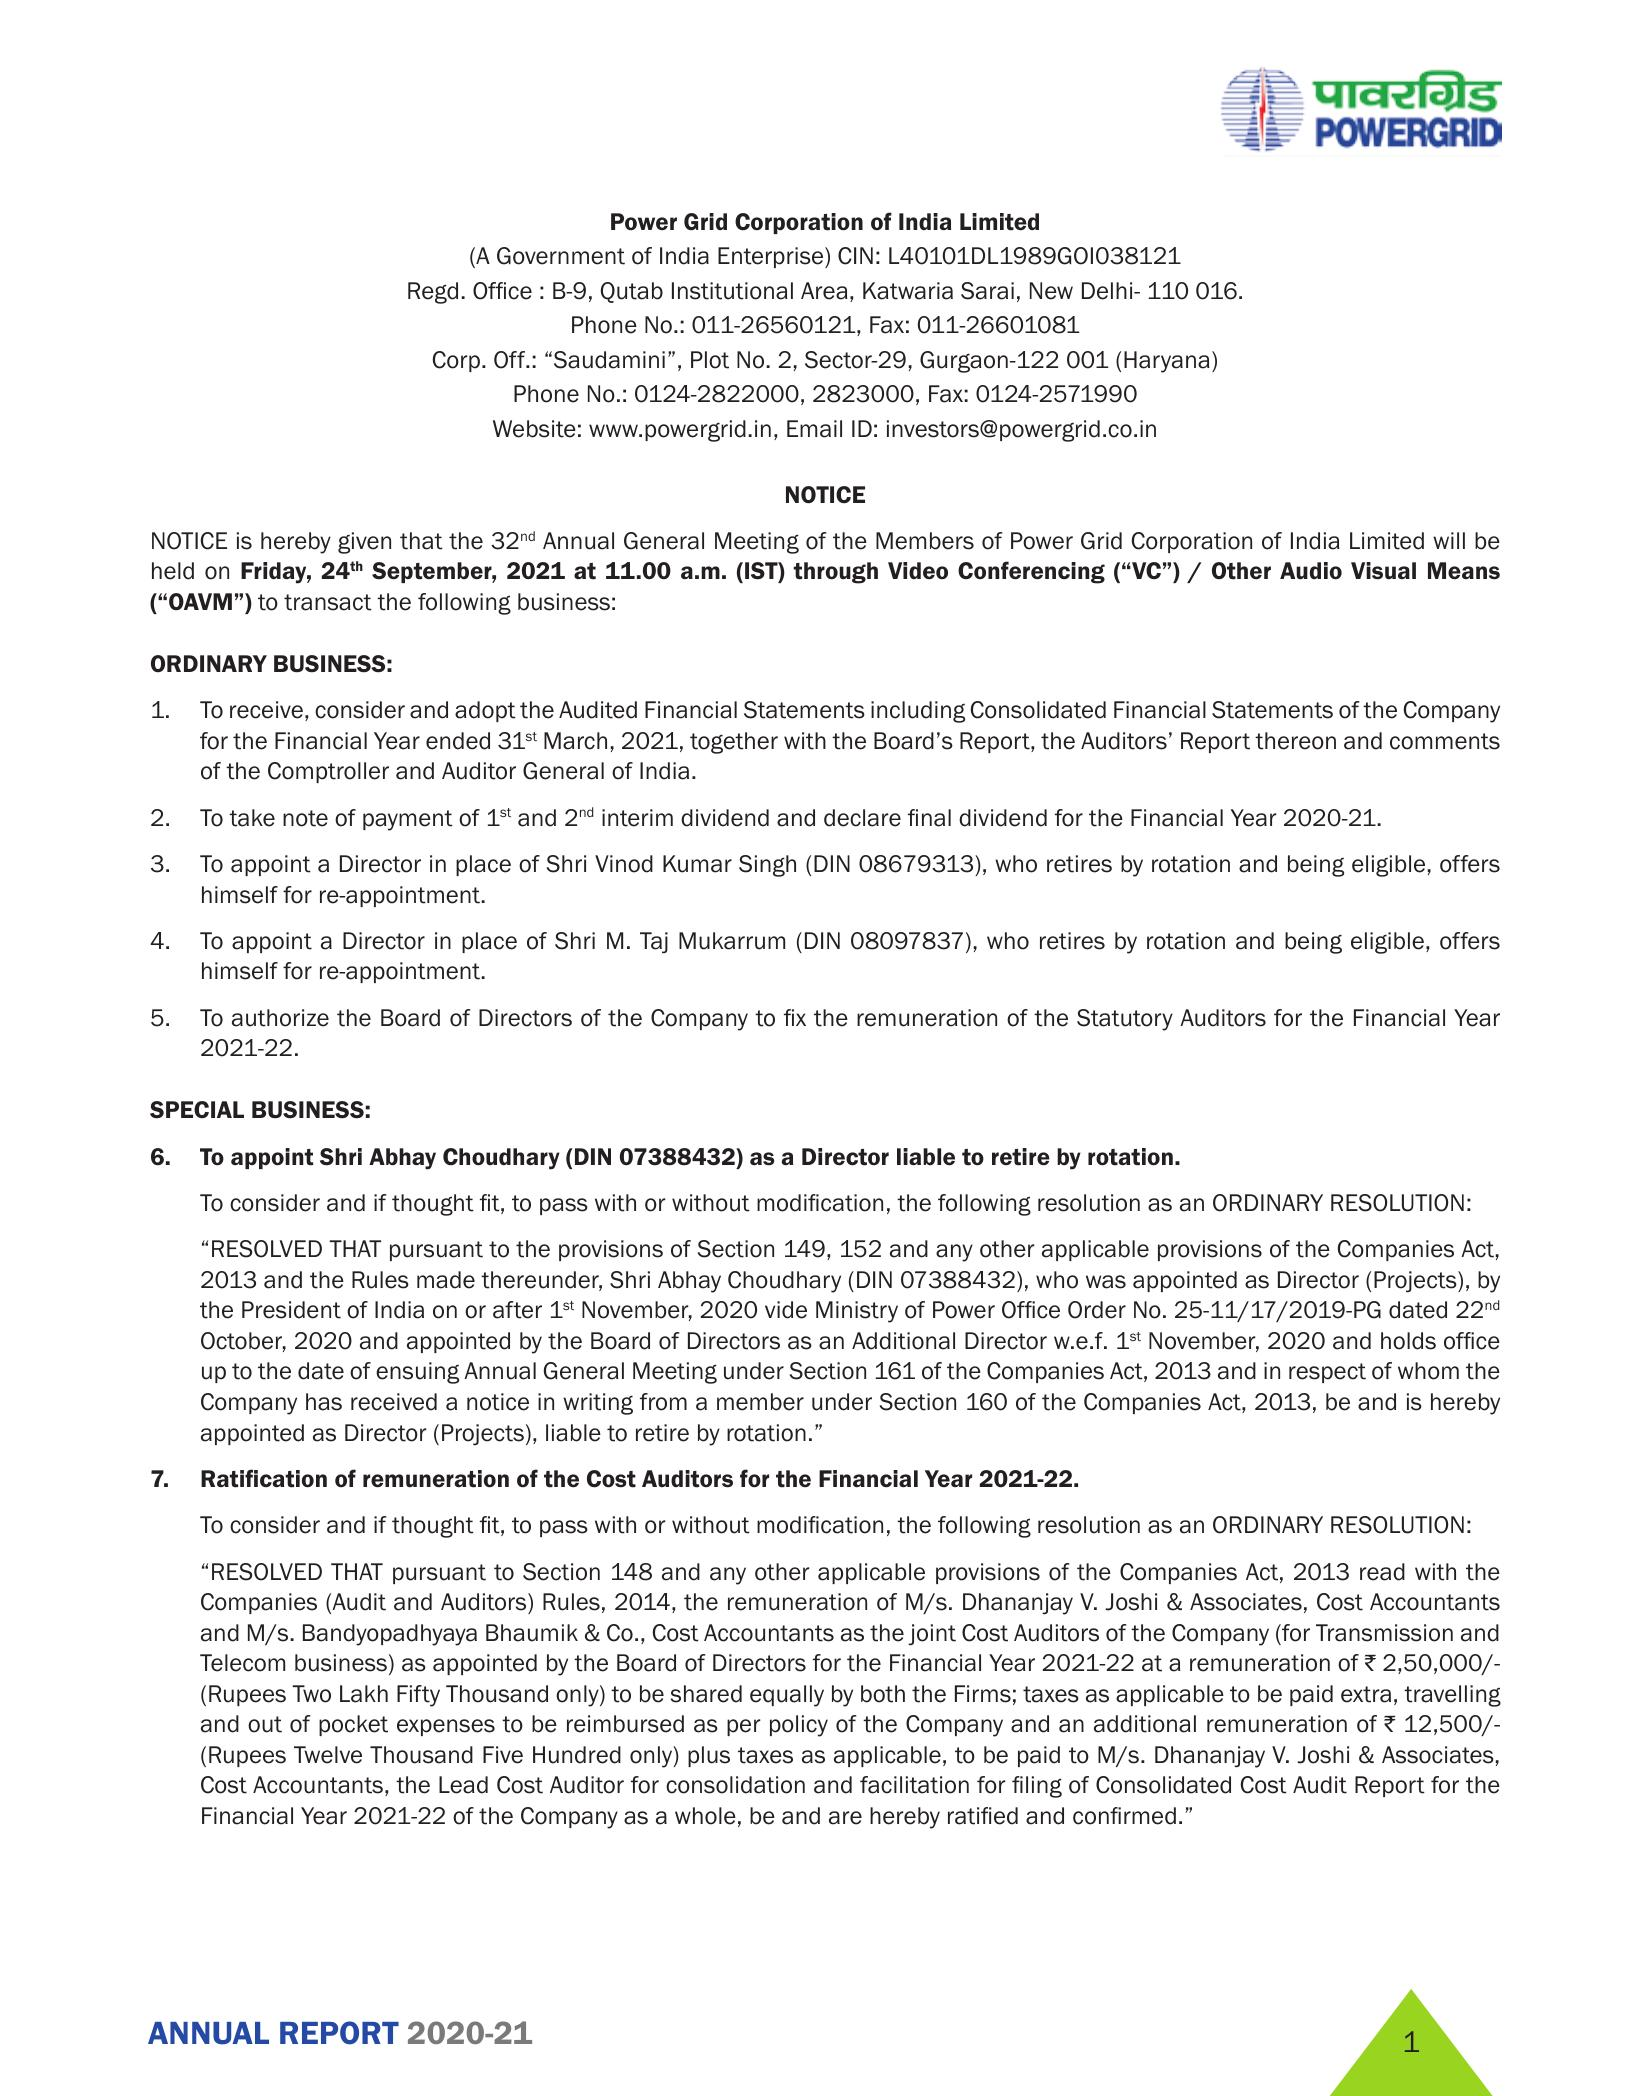Footer: (0, 1945, 1638, 2096)
Header: (0, 0, 1650, 168)
